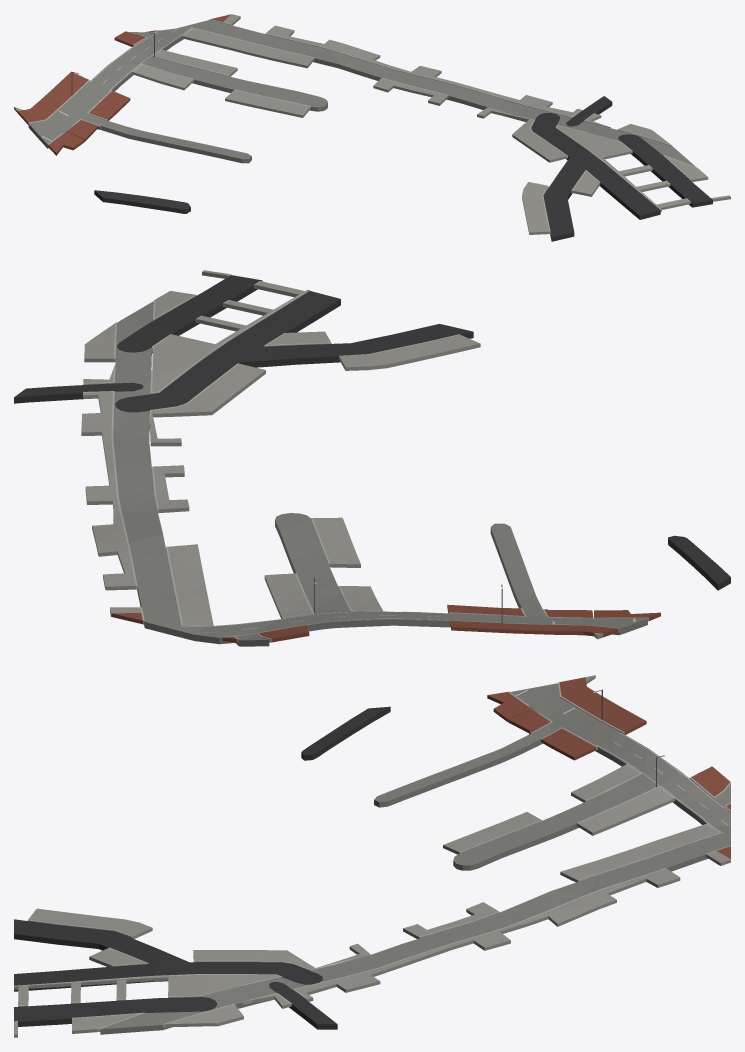
3 views of the same model, one above another, from view 1: azimuth 30°, elevation 25°; view 2: azimuth 150°, elevation 25°; view 3: azimuth 270°, elevation 25° (orthographic). The views are drawn at different scales.
Size of the model in its own units: 147 by 18.3 by 146.
